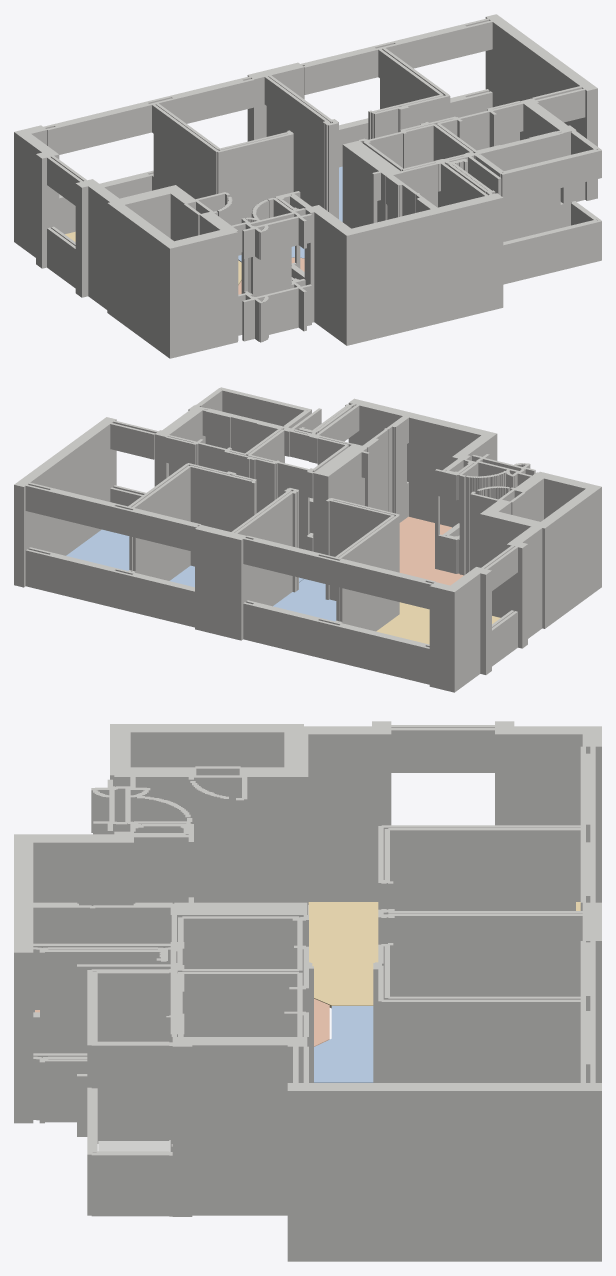
3 renders of one model, top to bottom at view 1: azimuth 30°, elevation 25°; view 2: azimuth 150°, elevation 25°; view 3: azimuth 270°, elevation 25°, orthographic. The views are drawn at different scales.
Parts seen in each view (by area): view 1: walls; view 2: walls, room:kitchen:6, room:bedroom:3, room:bedroom:1, room:living:0; view 3: walls, room:living:0, room:bedroom:1, room:ledge:8.
Part boxes in pixels (x1=…): walls: x1=14, y1=14, x2=601, y2=358; walls: x1=14, y1=387, x2=601, y2=692; room:kitchen:6: x1=399, y1=516, x2=463, y2=585; room:bedroom:3: x1=66, y1=529, x2=129, y2=570; room:bedroom:1: x1=273, y1=579, x2=336, y2=621; room:living:0: x1=376, y1=602, x2=500, y2=644; walls: x1=14, y1=721, x2=601, y2=1261; room:living:0: x1=308, y1=902, x2=580, y2=1008; room:bedroom:1: x1=314, y1=1006, x2=373, y2=1082; room:ledge:8: x1=98, y1=1140, x2=170, y2=1151.
Size of the model in its own units: 13.02 by 2.8 by 8.75.
